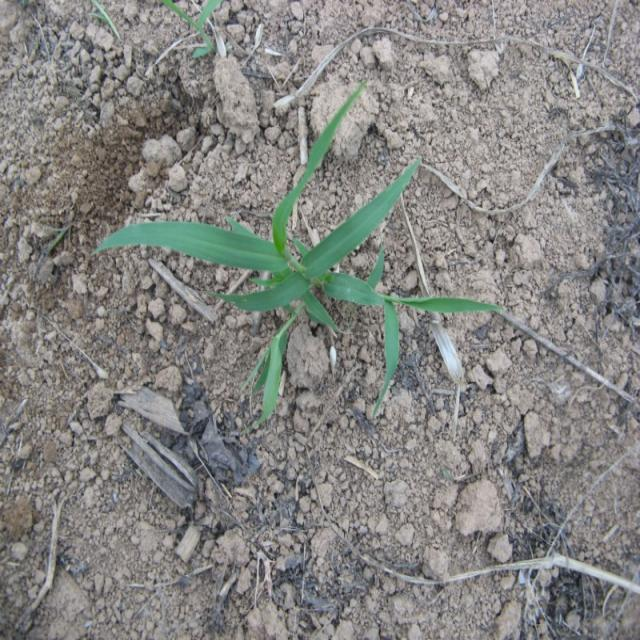bg: (97, 75, 496, 417)
